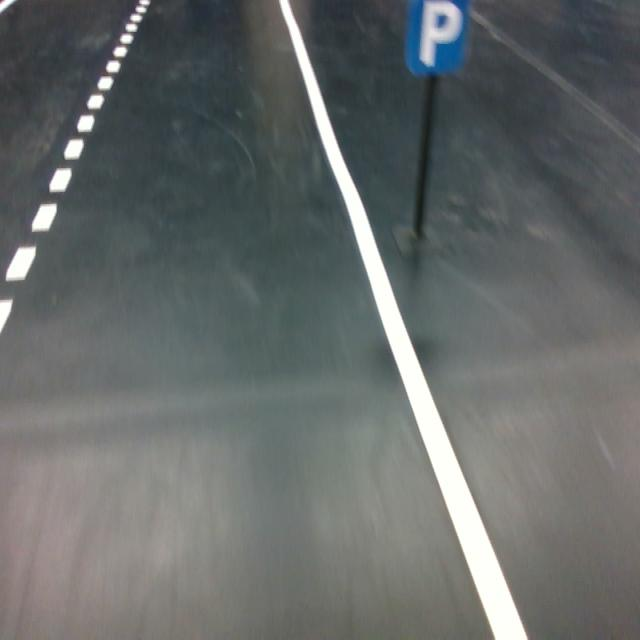parking-sign: (401, 0, 471, 79)
